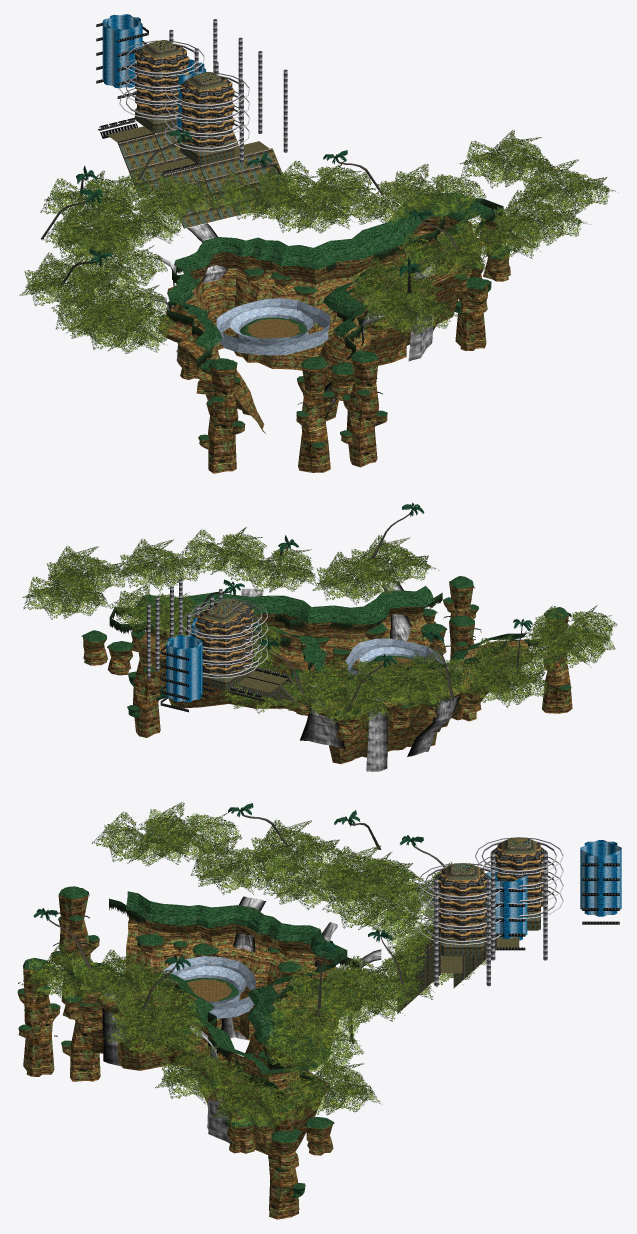
The model's file is boss-dark-falz-meadow.obj.
3 views of the same model, one above another, from view 1: azimuth 30°, elevation 25°; view 2: azimuth 150°, elevation 25°; view 3: azimuth 270°, elevation 25° (orthographic). The views are drawn at different scales.
Visible parts, largest first — view 1: mesh_176, mesh_39, mesh_40, mesh_42, mesh_5, mesh_54, mesh_46, mesh_50, mesh_177, mesh_121, mesh_67, mesh_64 (+11 smaller); view 2: mesh_176, mesh_39, mesh_40, mesh_42, mesh_177, mesh_58, mesh_46, mesh_41, mesh_1, mesh_36, mesh_37, mesh_2 (+10 smaller); view 3: mesh_176, mesh_39, mesh_40, mesh_42, mesh_54, mesh_41, mesh_177, mesh_58, mesh_5, mesh_37, mesh_46, mesh_50 (+11 smaller).
Part boxes in pixels (x1=…): mesh_176: x1=19, y1=130, x2=618, y2=353; mesh_39: x1=158, y1=216, x2=484, y2=433; mesh_40: x1=167, y1=192, x2=491, y2=352; mesh_42: x1=158, y1=221, x2=510, y2=400; mesh_5: x1=216, y1=298, x2=330, y2=355; mesh_54: x1=346, y1=357, x2=378, y2=467; mesh_46: x1=208, y1=363, x2=238, y2=473; mesh_50: x1=298, y1=365, x2=330, y2=472; mesh_177: x1=167, y1=198, x2=503, y2=368; mesh_121: x1=118, y1=134, x2=166, y2=195; mesh_67: x1=200, y1=157, x2=256, y2=219; mesh_64: x1=164, y1=166, x2=220, y2=228; mesh_176: x1=22, y1=527, x2=617, y2=724; mesh_39: x1=136, y1=606, x2=533, y2=763; mesh_40: x1=130, y1=586, x2=529, y2=680; mesh_42: x1=82, y1=614, x2=511, y2=741; mesh_177: x1=109, y1=592, x2=548, y2=699; mesh_58: x1=133, y1=638, x2=161, y2=737; mesh_46: x1=542, y1=614, x2=572, y2=713; mesh_41: x1=83, y1=608, x2=507, y2=717; mesh_1: x1=366, y1=695, x2=387, y2=771; mesh_36: x1=166, y1=635, x2=202, y2=702; mesh_37: x1=167, y1=635, x2=201, y2=701; mesh_2: x1=300, y1=682, x2=344, y2=749; mesh_176: x1=21, y1=802, x2=486, y2=1133; mesh_39: x1=81, y1=910, x2=351, y2=1154; mesh_40: x1=91, y1=891, x2=347, y2=1074; mesh_42: x1=62, y1=939, x2=357, y2=1169; mesh_54: x1=23, y1=965, x2=54, y2=1076; mesh_41: x1=64, y1=934, x2=333, y2=1142; mesh_177: x1=67, y1=898, x2=361, y2=1106; mesh_58: x1=268, y1=1107, x2=299, y2=1219; mesh_5: x1=157, y1=956, x2=255, y2=1018; mesh_37: x1=580, y1=840, x2=621, y2=916; mesh_46: x1=58, y1=894, x2=90, y2=1004; mesh_50: x1=70, y1=978, x2=100, y2=1081.
Size of the model in its own units: 9627 by 4134 by 8363.
Materials: 25 (25 with a texture image).
